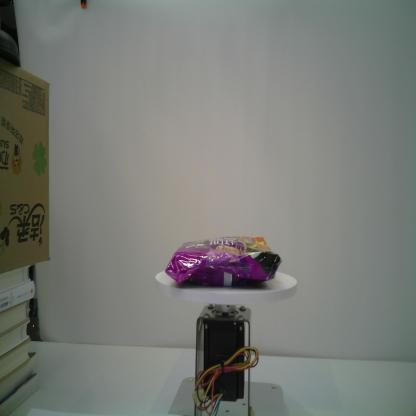Instant Noodles: (165, 236, 282, 288)
